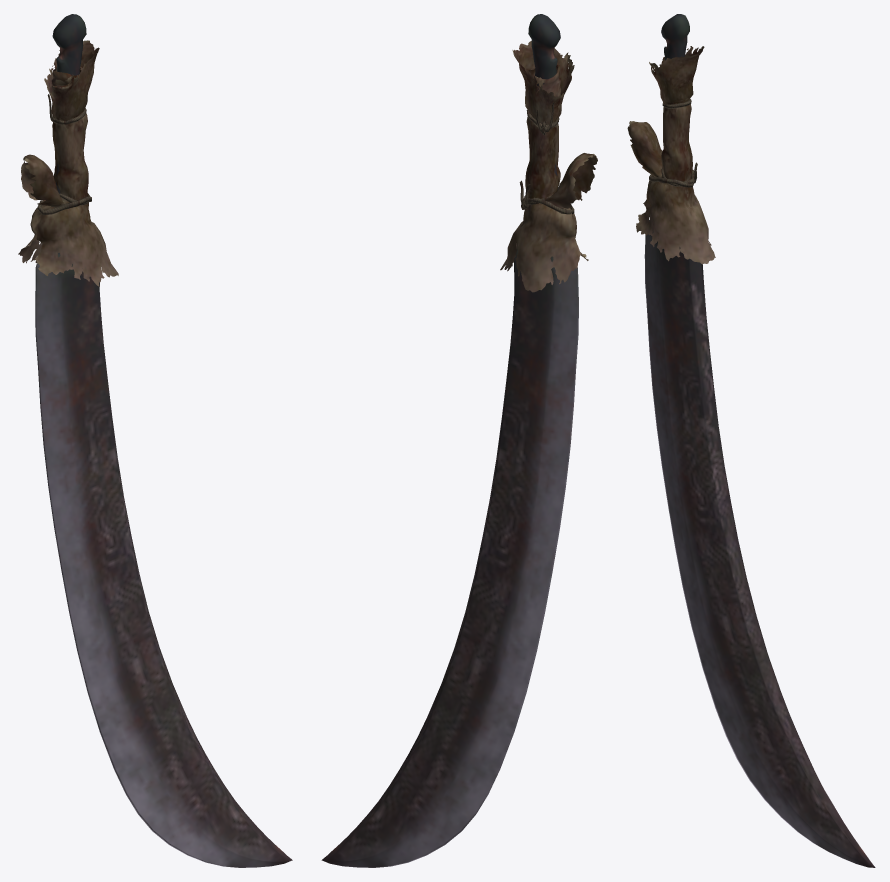
Rendered from weapon-wp_a_0457.glb.
3 views of the same model, side by side, from view 1: azimuth 30°, elevation 25°; view 2: azimuth 150°, elevation 25°; view 3: azimuth 330°, elevation 25° (orthographic). The views are drawn at different scales.
Visible parts, largest first — view 1: wp_a_0457_mesh; view 2: wp_a_0457_mesh; view 3: wp_a_0457_mesh.
Boxes of the visible parts, bbox=[...] form: wp_a_0457_mesh: bbox=[18, 14, 292, 867]; wp_a_0457_mesh: bbox=[321, 14, 597, 867]; wp_a_0457_mesh: bbox=[627, 14, 875, 867].
Bounding box in the file's own units: 0.5313 × 1.68 × 0.136.
Materials: 2 (2 with a texture image).
